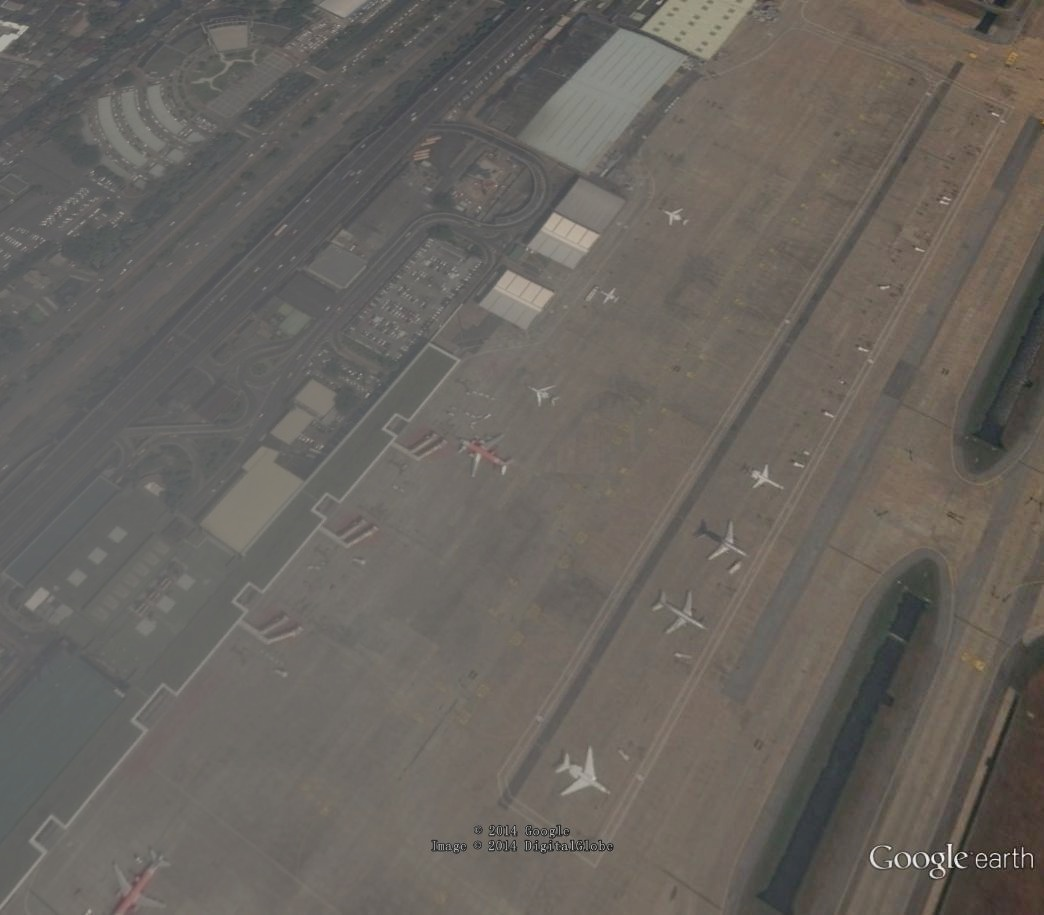aircraft: (112, 849, 173, 915), (552, 744, 613, 798), (650, 589, 708, 636), (458, 433, 516, 478), (698, 518, 749, 558), (750, 464, 787, 492), (529, 384, 563, 409), (662, 209, 691, 229), (600, 287, 621, 305)
